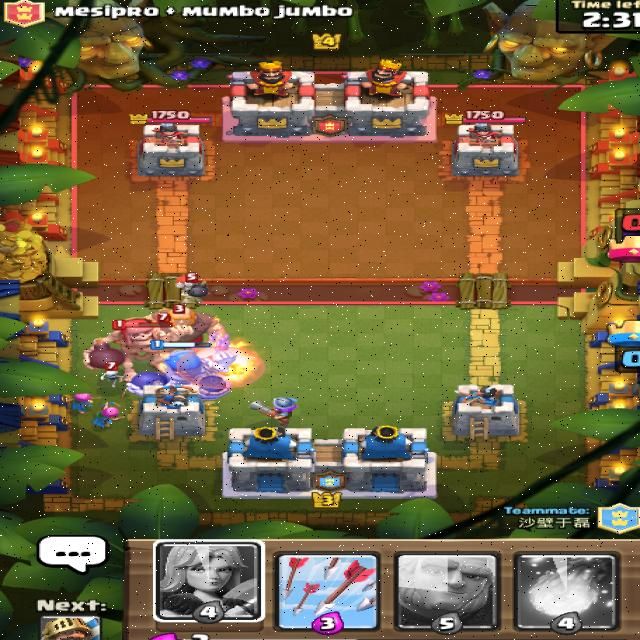Enemy-Bomber: (171, 271, 208, 300)
Enemy-Giant: (139, 303, 226, 346)
Enemy-GiantSkeleton: (80, 316, 192, 369)
Enemy-Skeleton: (98, 360, 125, 388)
Player-Archer: (90, 401, 125, 430), (68, 391, 100, 414)
Player-GiantSkeleton: (123, 338, 229, 400)
Player-Musketeer: (245, 396, 298, 426)
